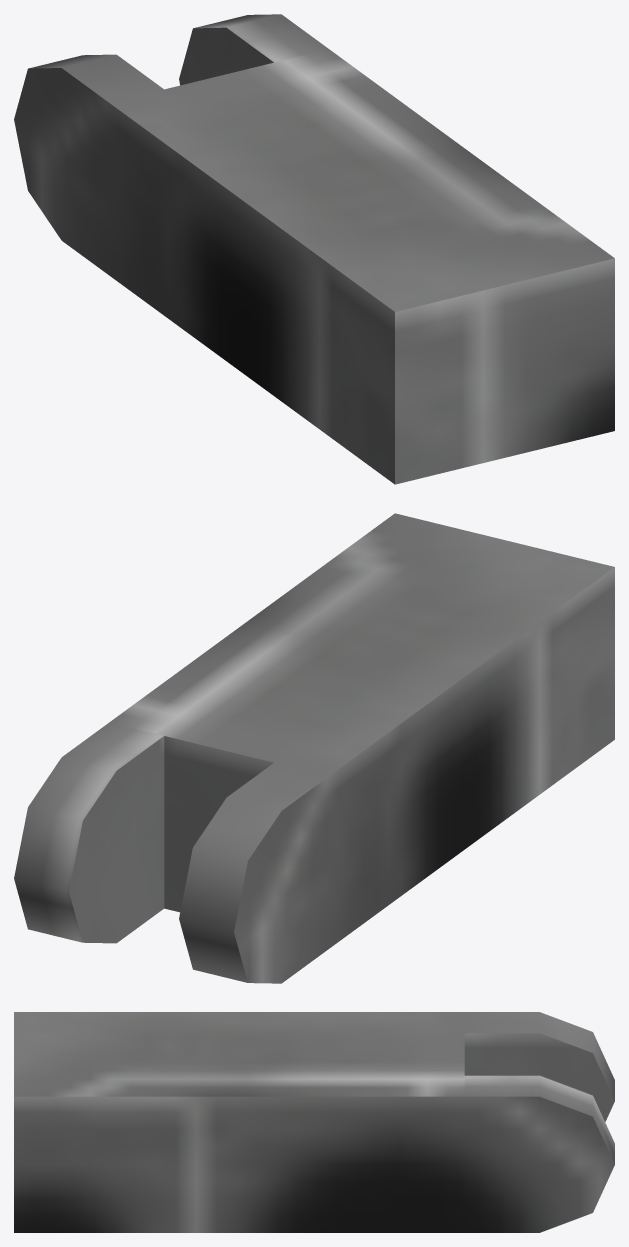
File: 4mv_vl_sensor_densitometer_srf_1_base.obj
The picture shows the model from 3 angles, top to bottom: view 1: azimuth 30°, elevation 25°; view 2: azimuth 150°, elevation 25°; view 3: azimuth 270°, elevation 25°; orthographic projection. The views are drawn at different scales.
Parts seen in each view (by area): view 1: mesh1; view 2: mesh1; view 3: mesh1.
Boxes of the visible parts, x1,y1,x2,y2 form: mesh1: (14, 14, 614, 484); mesh1: (14, 513, 614, 983); mesh1: (14, 1012, 614, 1232).
Bounding box in the file's own units: 0.05 × 0.0375 × 0.15.
Materials: 1 (1 with a texture image).
